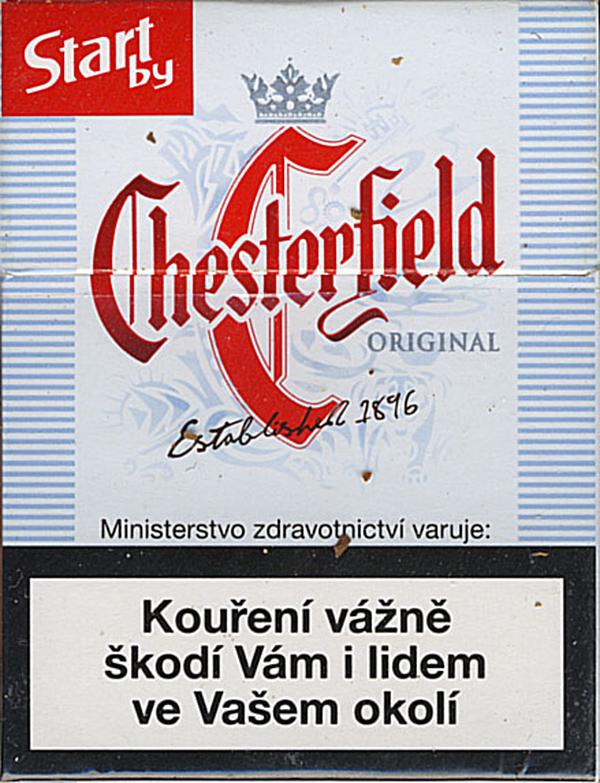chesterfield_red: (5, 6, 592, 775)
